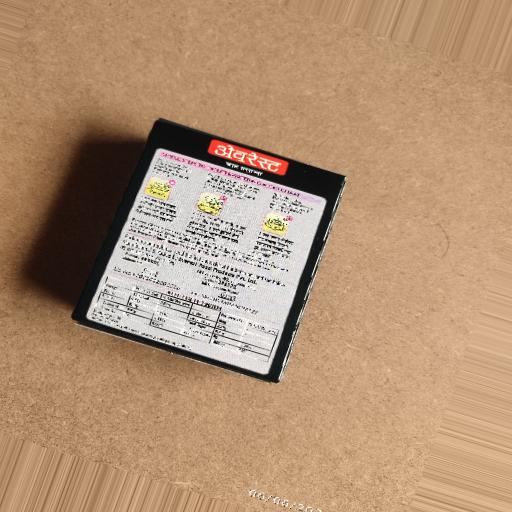Everest Chaat Masala: (49, 92, 377, 426)
